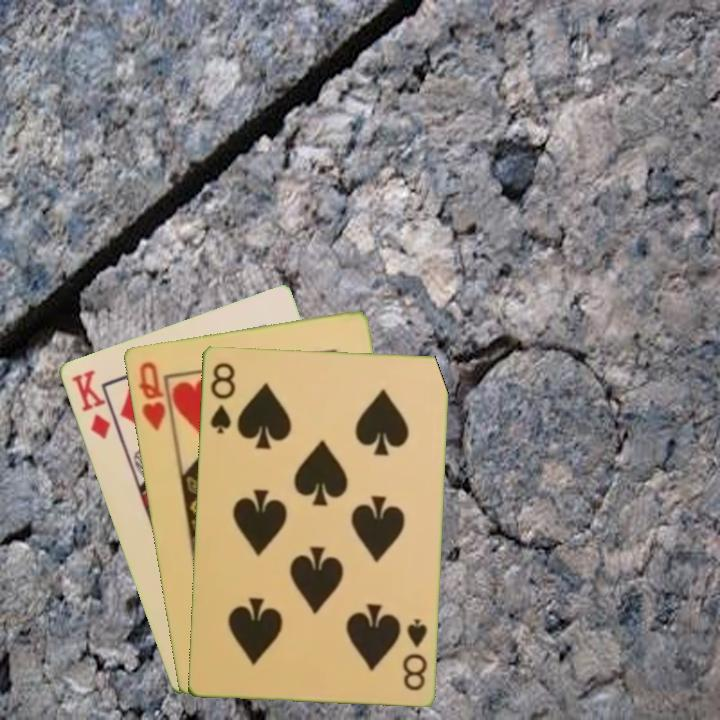8s: (398, 614, 430, 693), (206, 359, 238, 436)
Kd: (67, 365, 113, 442)
Qh: (134, 357, 168, 434)
